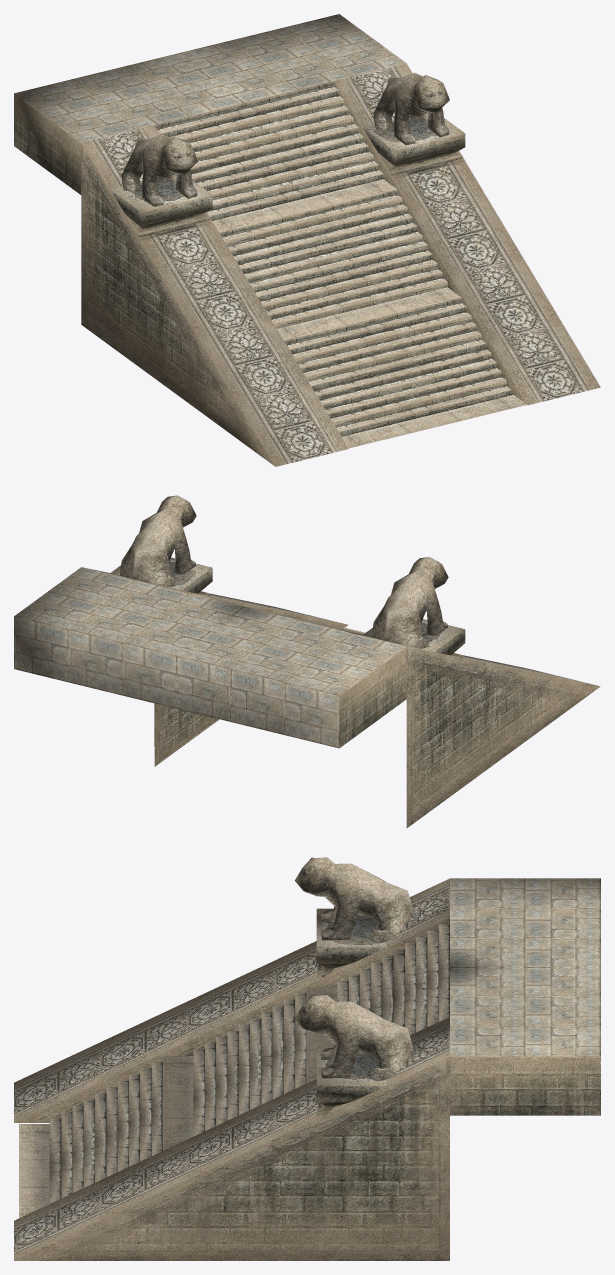
File: desert-002-inwall-02.glb
The picture shows the model from 3 angles, top to bottom: view 1: azimuth 30°, elevation 25°; view 2: azimuth 150°, elevation 25°; view 3: azimuth 270°, elevation 25°; orthographic projection. The views are drawn at different scales.
Visible parts, largest first — view 1: desert-002-inwall-02; view 2: desert-002-inwall-02; view 3: desert-002-inwall-02.
Boxes of the visible parts, x1=… form: desert-002-inwall-02: x1=14, y1=14, x2=600, y2=466; desert-002-inwall-02: x1=14, y1=495, x2=600, y2=828; desert-002-inwall-02: x1=14, y1=857, x2=600, y2=1260.
Size of the model in its own units: 11.38 by 7.39 by 15.85.
1 material, 1 textured.
